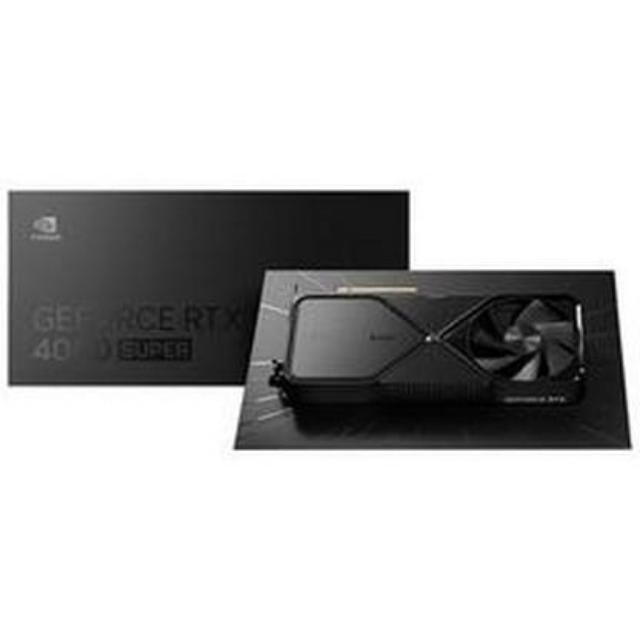GPU: (288, 280, 590, 412)
